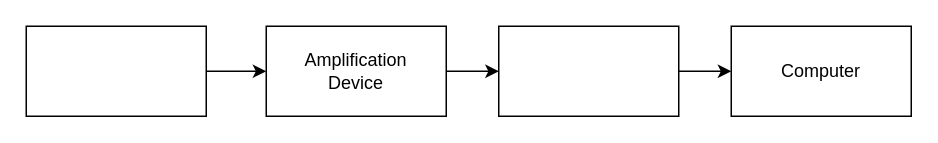
The diagram is 938 pixels wide and 143 high, and some of its shapes have lost their labels. Each missing label, with the centre of its shape:
"Analog Digital Converter" belongs at (x=588, y=70).
"Photosensitive Semiconductor" belongs at (x=115, y=70).
